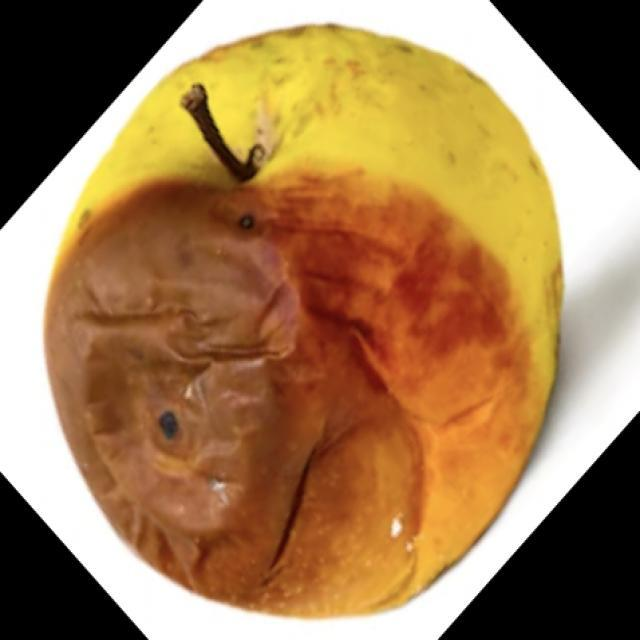Rotten: (70, 30, 565, 603)
